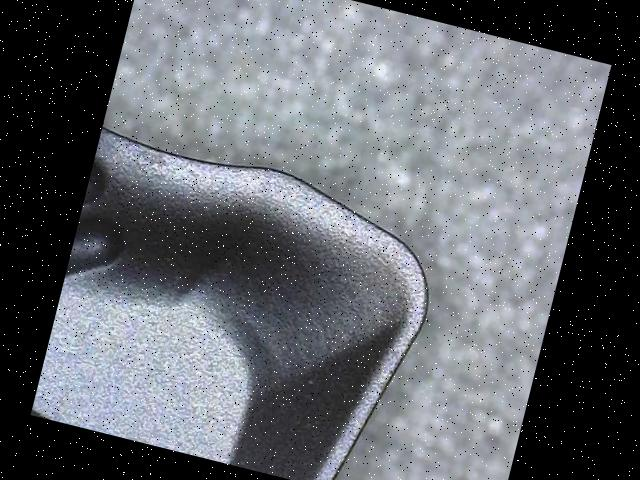normal: (98, 125, 428, 480)
